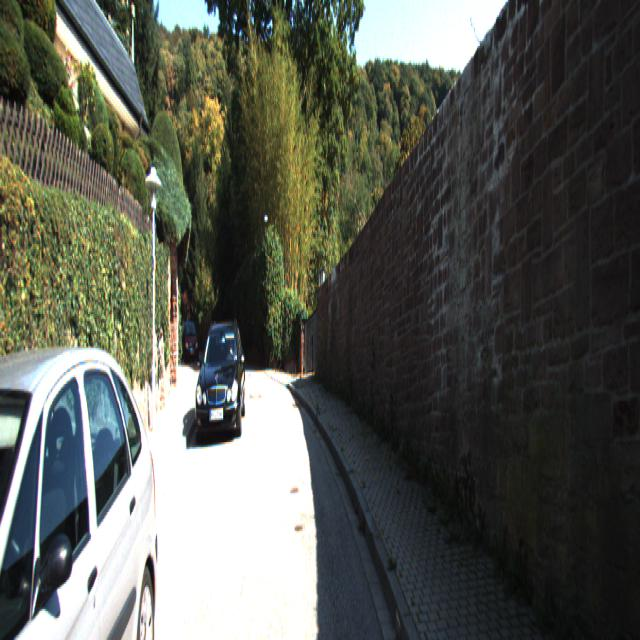Car: (0, 311, 163, 638), (195, 323, 246, 452), (182, 320, 200, 366)
